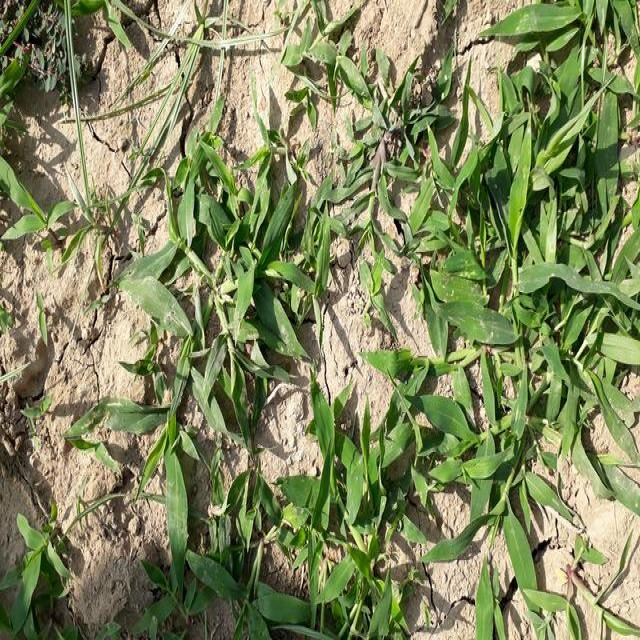weed: (439, 9, 639, 640), (122, 172, 302, 568), (328, 42, 510, 332), (279, 371, 446, 640)
